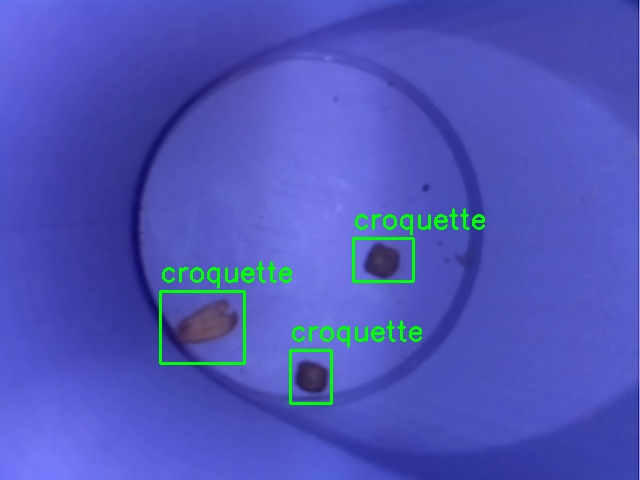croquette: (160, 291, 244, 363), (353, 238, 413, 281), (290, 350, 331, 403)
